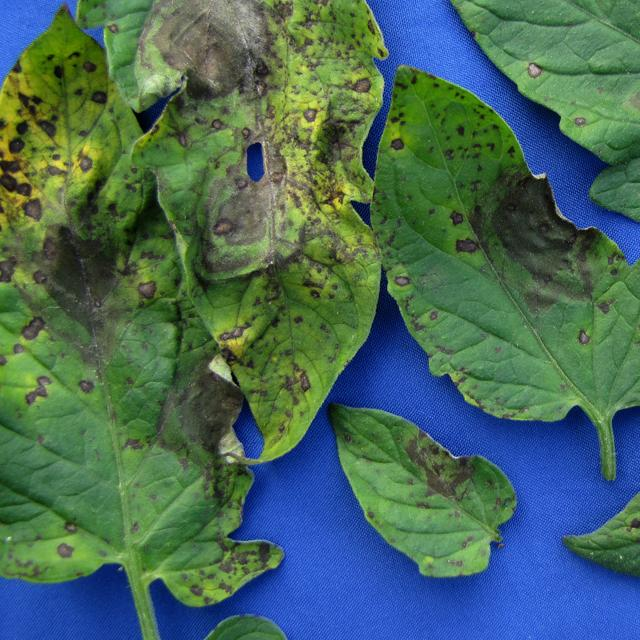Tomato leaf late blight: (0, 0, 312, 628), (75, 0, 395, 469), (363, 39, 640, 466), (401, 0, 640, 224), (552, 144, 640, 623)
